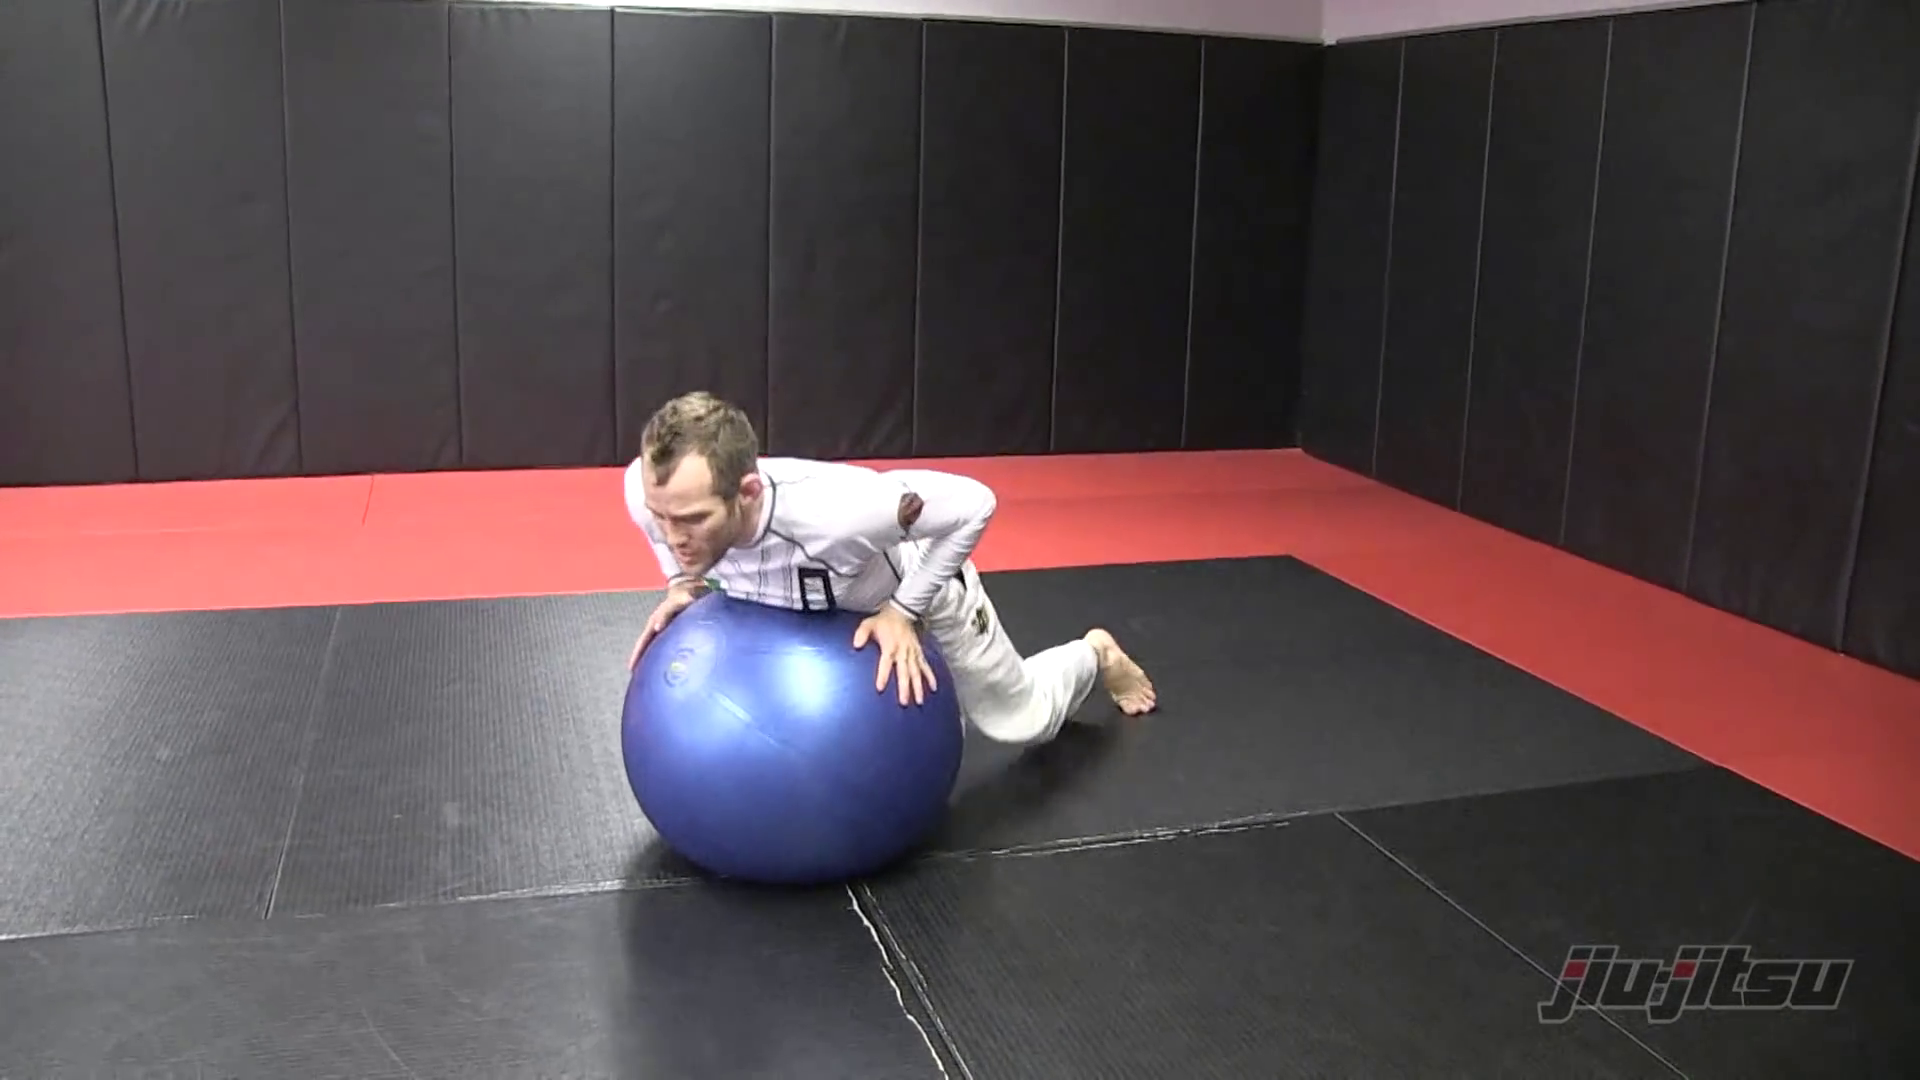yogaball: (597, 587, 978, 897)
